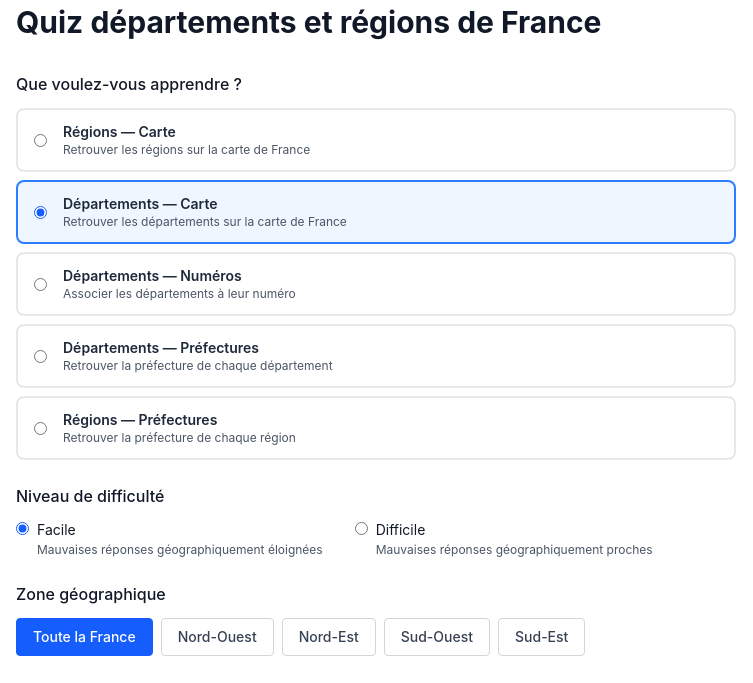
QuizConfig – zone géographique › affiche un avertissement quand la longueur dépasse le nombre de depts de la zone
This screenshot has width=753, height=683.
Click the button "Nord-Ouest" at (217, 637), box [161, 618, 274, 656]
(page scrolled)
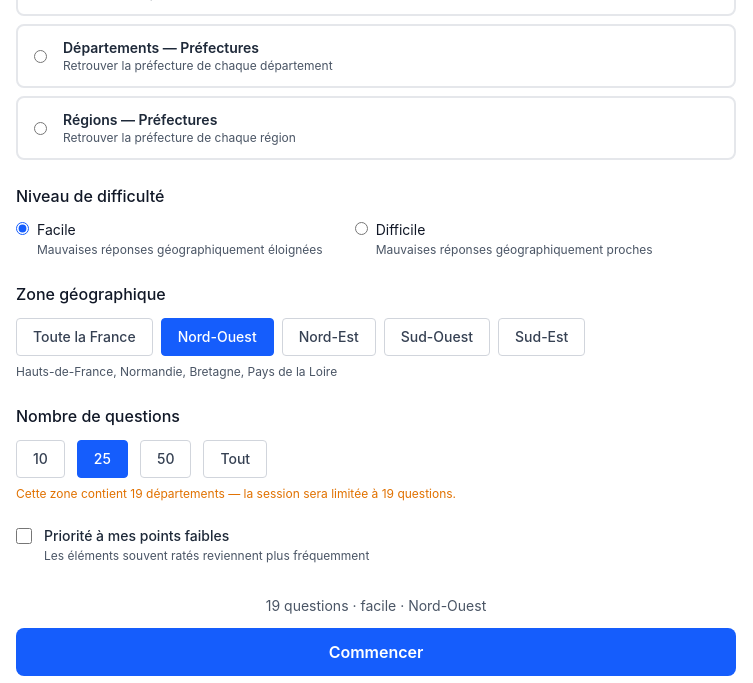
Expected: the text "sera limitée" is shown, [143, 486, 382, 501]
